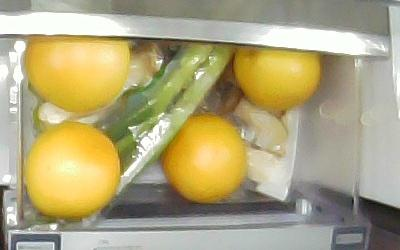grapefruit: (25, 119, 120, 218), (24, 37, 131, 113), (160, 112, 247, 203), (232, 45, 321, 110)
